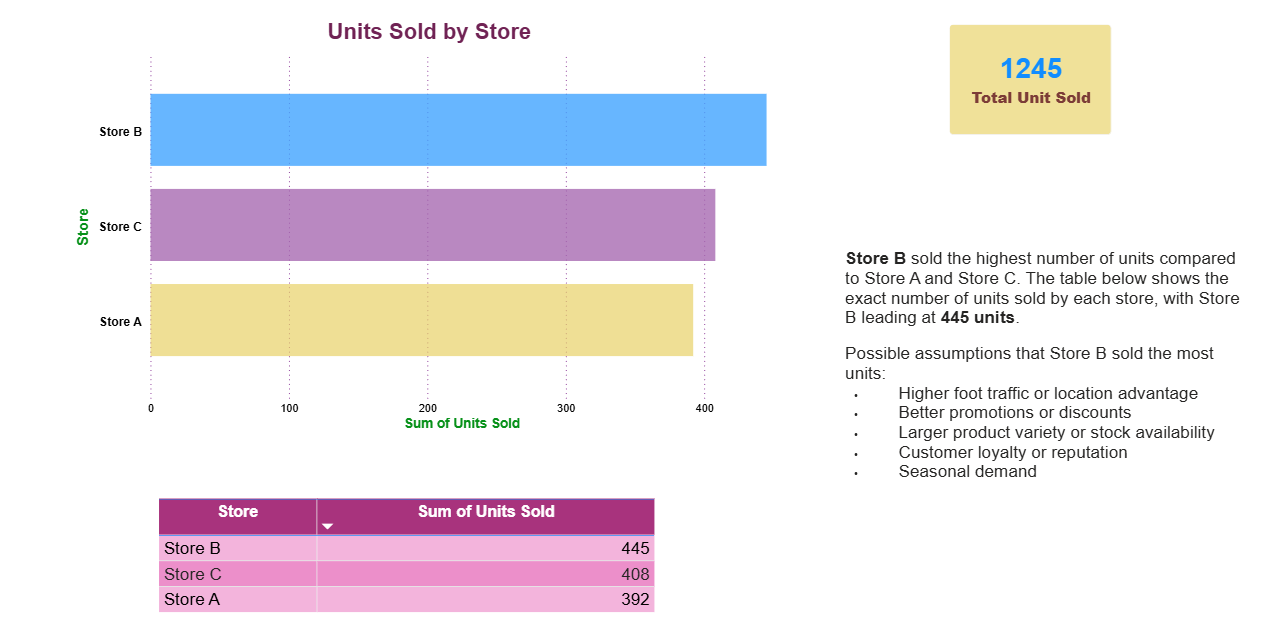

This screenshot's page, from the dashboard's own definition file:
{"tool":"powerbi","page":{"name":"Which store sold the highest number of units?","canvas":[1280,720],"ordinal":3},"visuals":[{"type":"clusteredBarChart","title":"Units Sold by Store","fields":{"Category":["RR-PRAC4 - retail_sales_q1_2025_large.Store"],"Y":["Sum(RR-PRAC4 - retail_sales_q1_2025_large.Units Sold)"]},"box":[0,24.8,778.5,463.8],"z":0},{"type":"tableEx","fields":{"Values":["RR-PRAC4 - retail_sales_q1_2025_large.Store","Sum(RR-PRAC4 - retail_sales_q1_2025_large.Units Sold)"]},"box":[89.4,550,550,159],"z":1000},{"type":"textbox","box":[793.5,279.9,445.6,415.8],"z":2000},{"type":"cardVisual","fields":{"Data":["Sum(RR-PRAC4 - retail_sales_q1_2025_large.Units Sold)"]},"box":[935.9,24.8,210.4,154.1],"z":3000}]}

Visuals, with their boxes on the page's 1280x720 design canvas (x1, y1, x2, y2). These are canvas units, not pixel positions in the 1279x640 screenshot, which may show the page scaled, cropped or inside an application window:
"Units Sold by Store" clusteredBarChart: select_region(0, 25, 778, 489)
tableEx - RR-PRAC4 - retail_sales_q1_2025_large.Store x Sum(RR-PRAC4 - retail_sales_q1_2025_large.Units Sold): select_region(89, 550, 639, 709)
textbox: select_region(794, 280, 1239, 696)
cardVisual - Sum(RR-PRAC4 - retail_sales_q1_2025_large.Units Sold): select_region(936, 25, 1146, 179)
